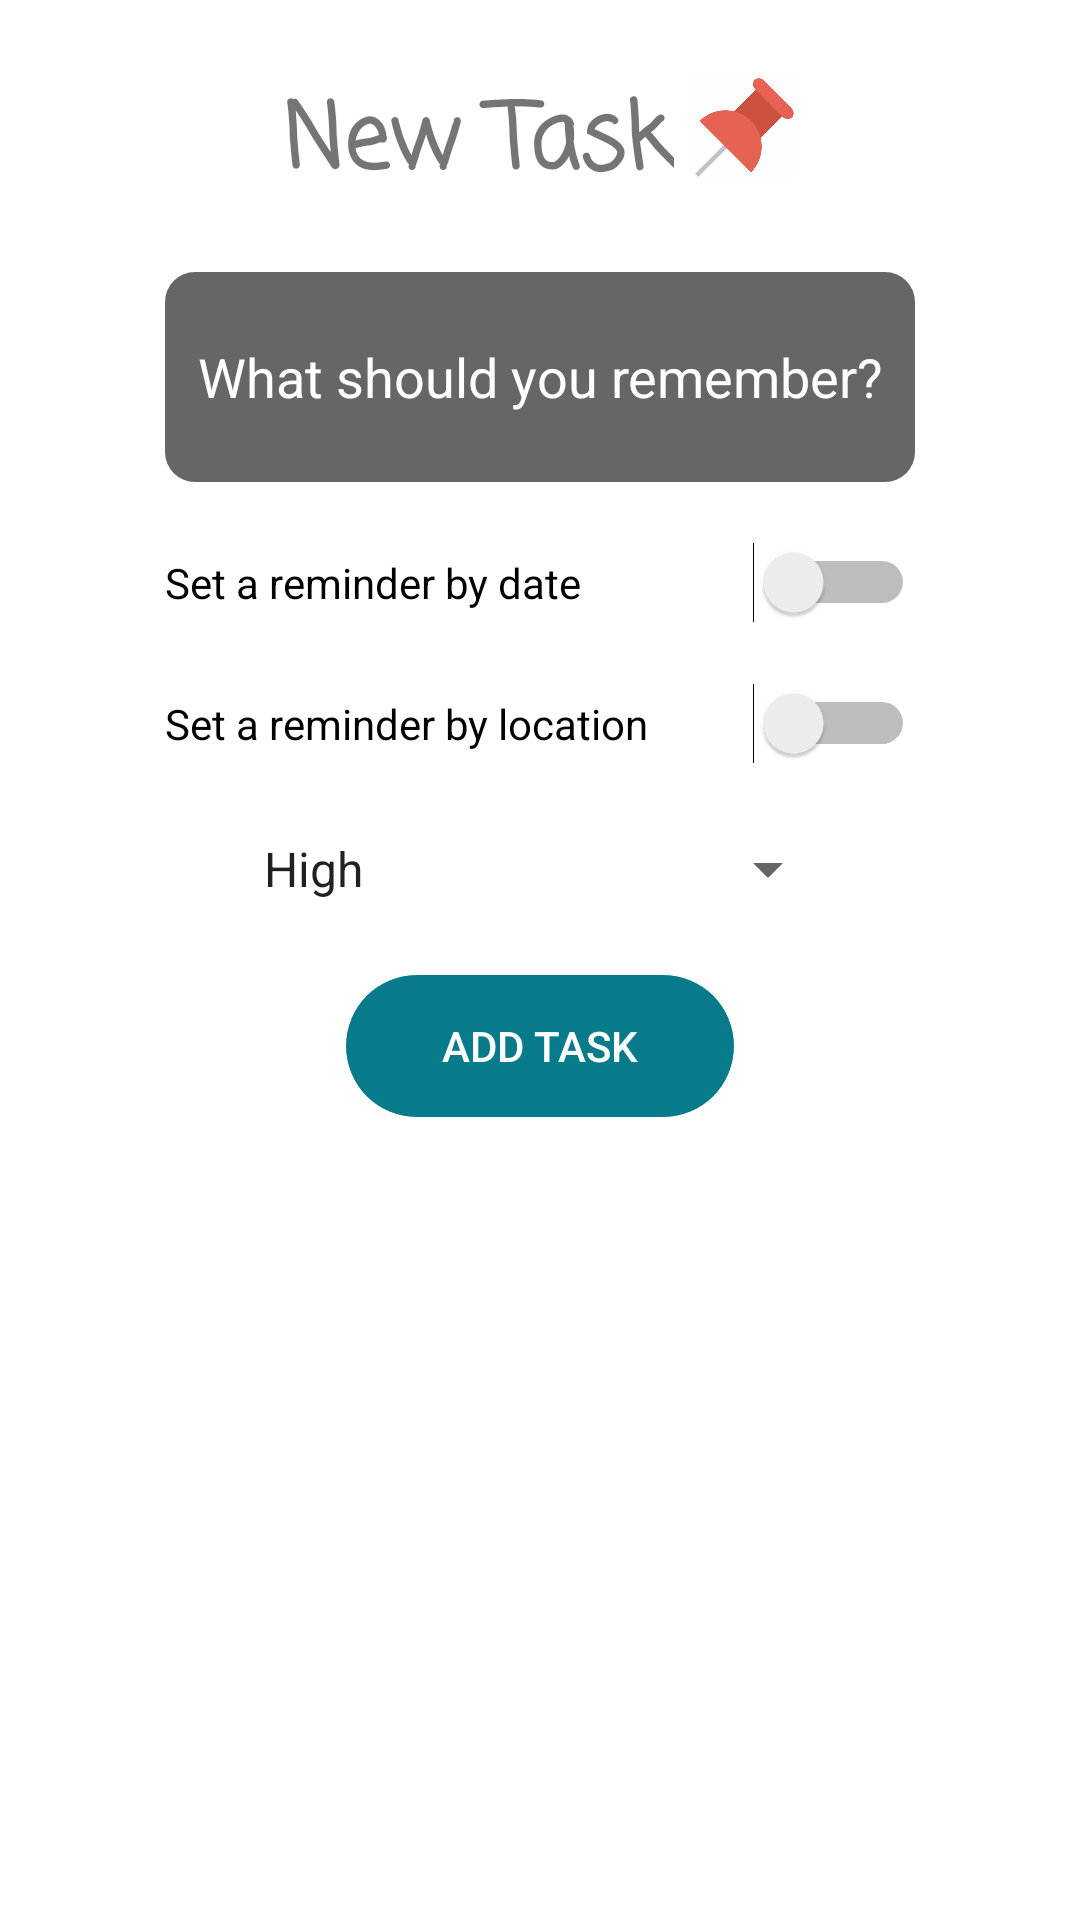

Screen size 1080w x 1920h. Icon name, then its box in pixels as (left=x1, top=y1, right=x2, bottom=y2):
thumbtack: (left=695, top=78, right=794, bottom=177)
